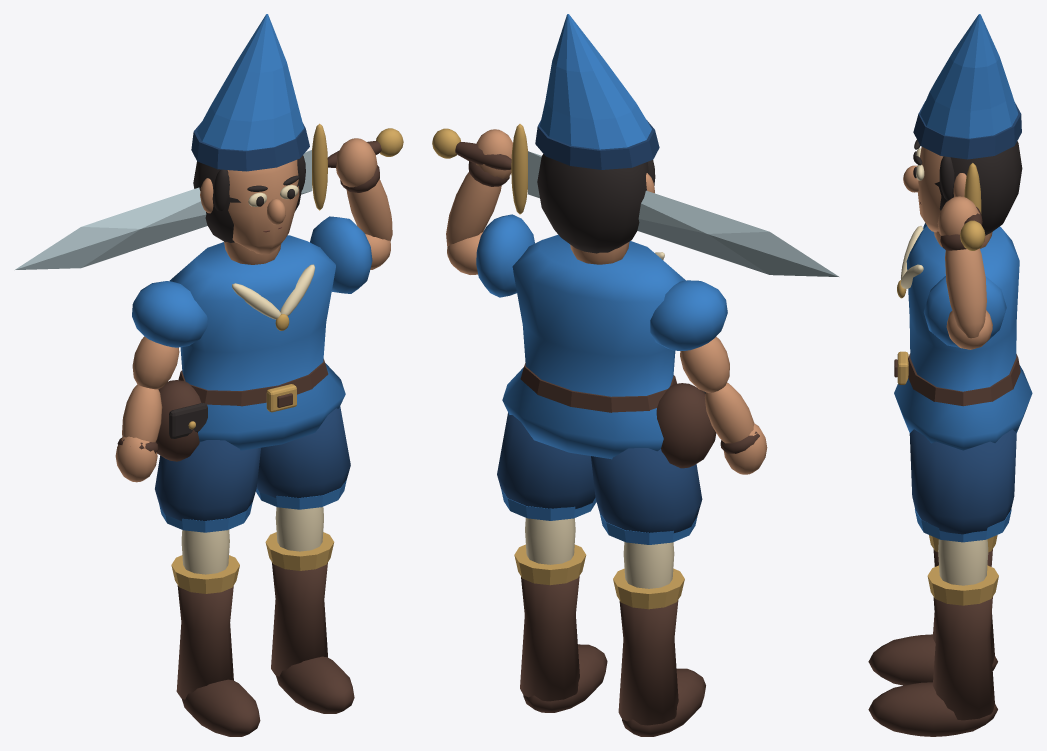
File: blue.glb
The picture shows the model from 3 angles, left to right: view 1: azimuth 30°, elevation 25°; view 2: azimuth 150°, elevation 25°; view 3: azimuth 270°, elevation 25°; orthographic projection. The views are drawn at different scales.
Parts seen in each view (by area): view 1: Bloused tunic, Pointed cap, Shoulder sword, Loose shorts, Loose shorts.001, Tall boot, Tall boot.001, Tapered face, Short tunic sleeve, Pointed boot toe, Pointed boot toe.001, Short tunic sleeve.001 (+20 smaller); view 2: Bloused tunic, Pointed cap, Hair silhouette, Shoulder sword, Loose shorts, Tall boot, Tall boot.001, Loose shorts.001, Short tunic sleeve, Belt pouch, Short tunic sleeve.001, Folded cap brim (+19 smaller); view 3: Bloused tunic, Loose shorts.001, Pointed cap, Tall boot.001, Pointed boot toe.001, Hair silhouette, Forearm.001, Pointed boot toe, Folded cap brim, Stocking.001, Short tunic sleeve.001, Leather belt (+14 smaller).
Boxes of the visible parts, left/top/right/bottom form: Bloused tunic: left=169, top=235, right=345, bottom=450; Pointed cap: left=197, top=14, right=303, bottom=150; Shoulder sword: left=15, top=150, right=311, bottom=269; Loose shorts: left=155, top=440, right=260, bottom=521; Loose shorts.001: left=256, top=406, right=350, bottom=497; Tall boot: left=176, top=585, right=233, bottom=699; Tall boot.001: left=271, top=562, right=327, bottom=676; Tapered face: left=227, top=160, right=299, bottom=254; Short tunic sleeve: left=132, top=281, right=207, bottom=347; Pointed boot toe: left=182, top=679, right=260, bottom=736; Pointed boot toe.001: left=276, top=656, right=354, bottom=713; Short tunic sleeve.001: left=310, top=216, right=372, bottom=293; Bloused tunic: left=502, top=234, right=685, bottom=459; Pointed cap: left=540, top=14, right=651, bottom=149; Hair silhouette: left=537, top=154, right=648, bottom=253; Shoulder sword: left=528, top=151, right=838, bottom=276; Loose shorts: left=591, top=448, right=702, bottom=532; Tall boot: left=618, top=600, right=678, bottom=725; Tall boot.001: left=520, top=576, right=579, bottom=701; Loose shorts.001: left=497, top=412, right=595, bottom=508; Short tunic sleeve: left=650, top=280, right=727, bottom=350; Belt pouch: left=656, top=383, right=716, bottom=468; Short tunic sleeve.001: left=476, top=214, right=534, bottom=297; Folded cap brim: left=535, top=120, right=659, bottom=169; Bloused tunic: left=894, top=226, right=1032, bottom=450; Loose shorts.001: left=909, top=429, right=1016, bottom=534; Pointed cap: left=920, top=14, right=1018, bottom=138; Tall boot.001: left=932, top=597, right=994, bottom=720; Pointed boot toe.001: left=868, top=682, right=997, bottom=736; Hair silhouette: left=934, top=141, right=1022, bottom=235; Forearm.001: left=945, top=248, right=986, bottom=338; Pointed boot toe: left=868, top=634, right=997, bottom=685; Folded cap brim: left=913, top=101, right=1021, bottom=159; Stocking.001: left=938, top=539, right=988, bottom=585; Short tunic sleeve.001: left=923, top=276, right=1006, bottom=347; Leather belt: left=908, top=353, right=1020, bottom=406.
Bounding box in the file's own units: 1.28 × 2.14 × 0.45.
